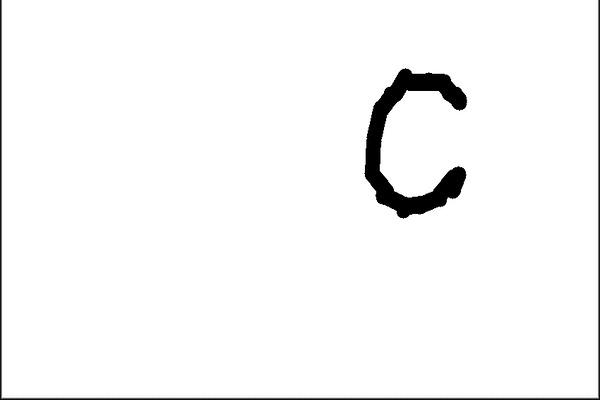C: (359, 65, 471, 220)
